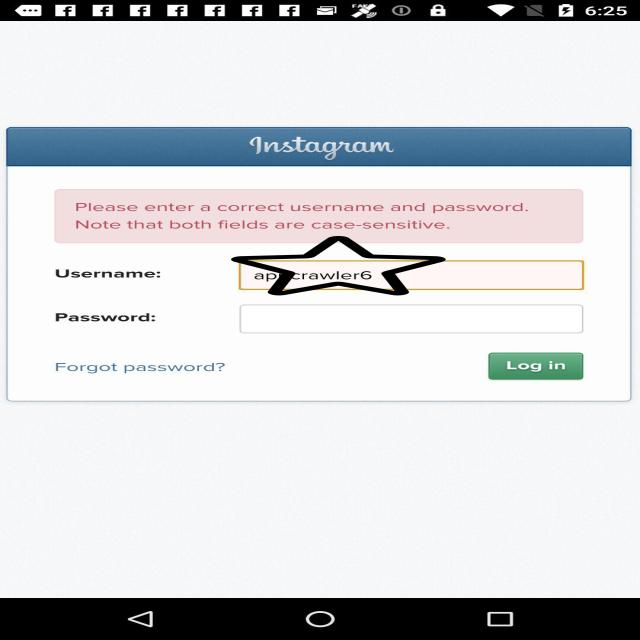forced continuity: (231, 234, 446, 296)
